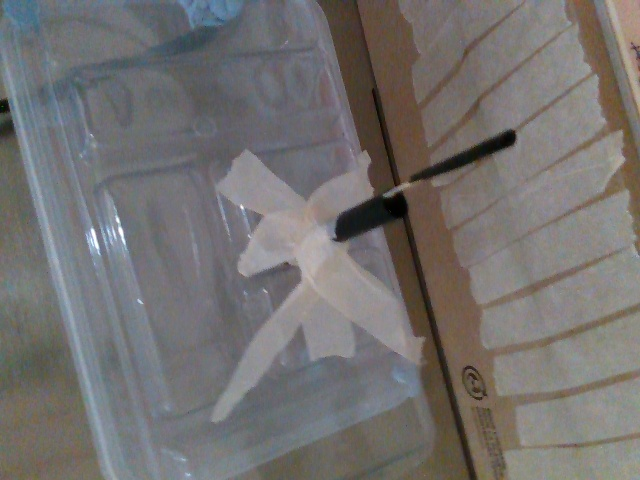test_strip: (383, 128, 516, 200)
